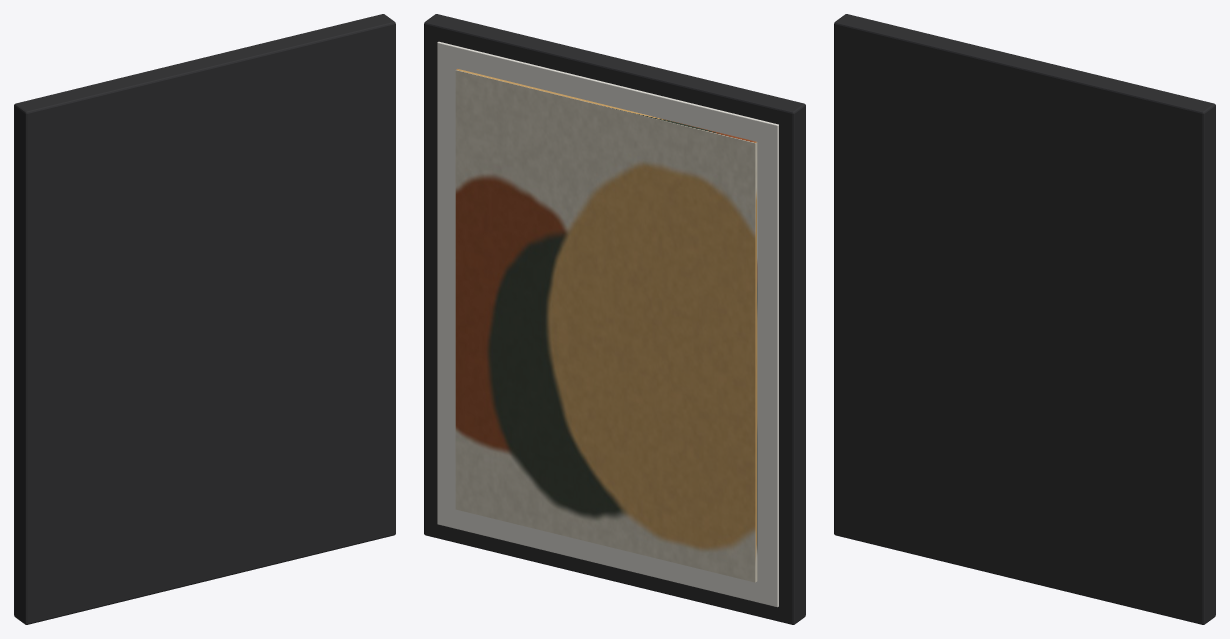
The model's file is bed3_art.glb.
3 renders of one model, left to right at view 1: azimuth 30°, elevation 25°; view 2: azimuth 150°, elevation 25°; view 3: azimuth 330°, elevation 25°, orthographic.
Parts seen in each view (by area): view 1: bed3_art; view 2: bed3_art; view 3: bed3_art.
Boxes of the visible parts, left/top/right/bottom form: bed3_art: left=14, top=14, right=395, bottom=624; bed3_art: left=424, top=14, right=805, bottom=624; bed3_art: left=834, top=14, right=1215, bottom=624.
Size of the model in its own units: 0.68 by 0.9 by 0.05.
3 materials, 1 textured.
